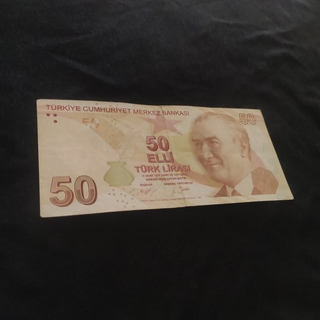50TLFront: (35, 98, 293, 218)
